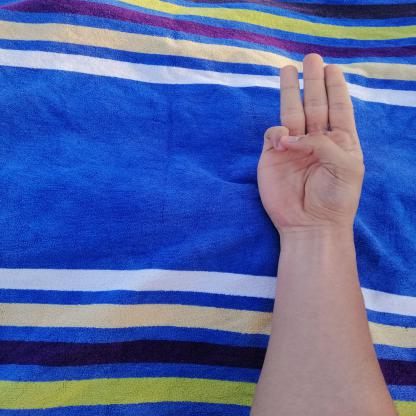THA: (241, 40, 376, 246)
